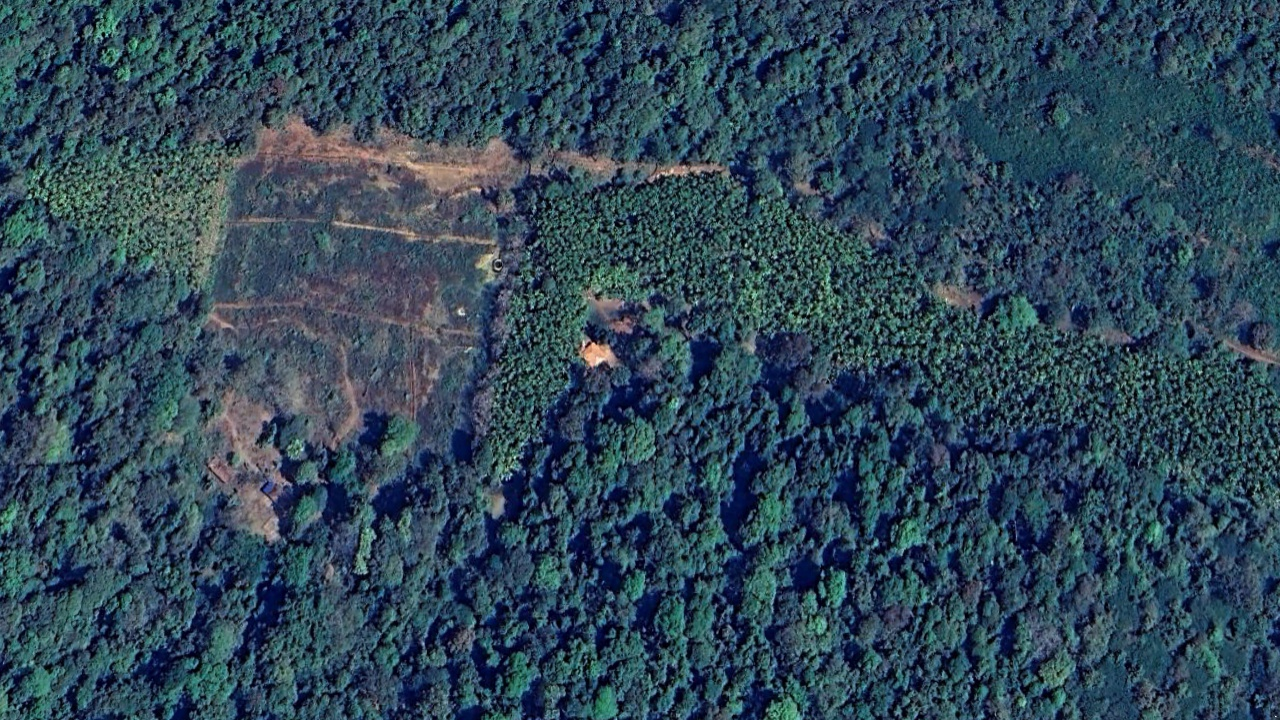arecanut: (487, 190, 1278, 504), (31, 141, 241, 293)
